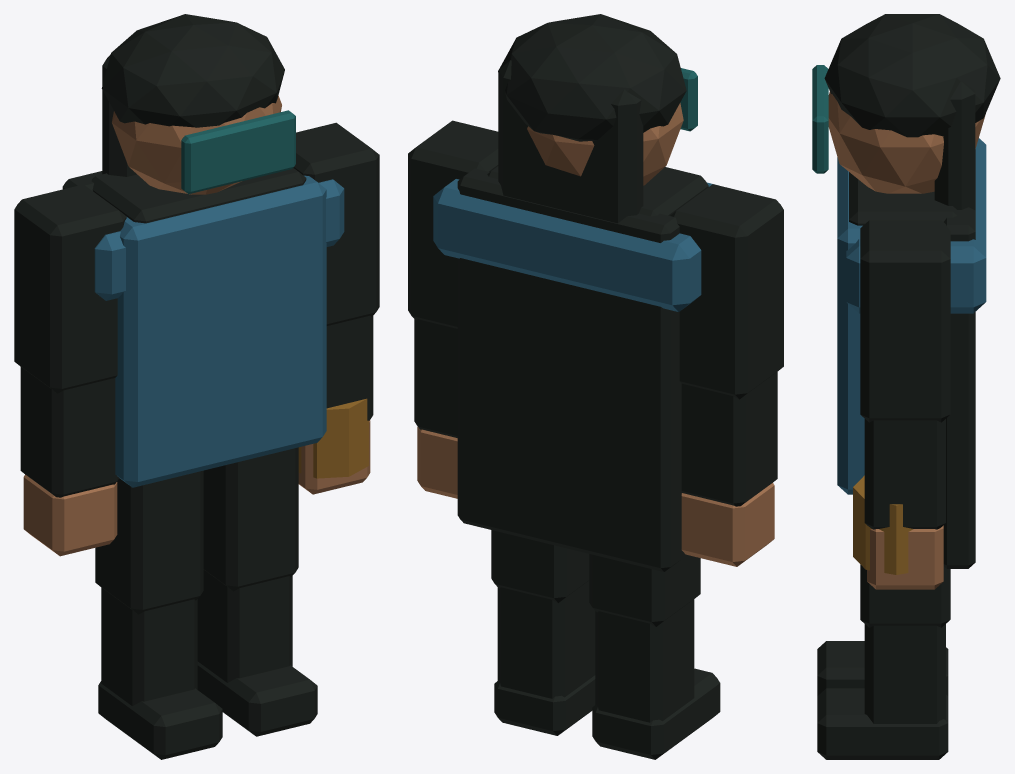
The model's file is NerisVeilfallWarden.glb.
3 views of the same model, side by side, from view 1: azimuth 30°, elevation 25°; view 2: azimuth 150°, elevation 25°; view 3: azimuth 270°, elevation 25° (orthographic). The views are drawn at different scales.
Parts seen in each view (by area): view 1: UpperTorso_Tunic, LeftUpperArm, Head_HairCap, LeftUpperLeg, RightUpperLeg, RightUpperArm, LeftLowerArm, LeftLowerLeg, RightLowerLeg, Head_VeilMask, LeftFoot, RightFoot (+8 smaller); view 2: UpperTorso_LongCape, LeftUpperArm, UpperTorso_WardenMantle, Head_HairCap, Head_HairBack, LeftLowerArm, LeftLowerLeg, RightUpperArm, RightLowerLeg, LeftUpperLeg, LeftHand, RightUpperLeg (+7 smaller); view 3: RightUpperArm, Head_HairCap, RightLowerArm, UpperTorso_LongCape, RightLowerLeg, Head, RightFoot, UpperTorso_Tunic, UpperTorso_WardenMantle, Head_HairBack, RightUpperLeg, RightHand (+4 smaller).
Part boxes in pixels (<box>): UpperTorso_Tunic: <box>115,175,326,487</box>; LeftUpperArm: <box>14,184,126,393</box>; Head_HairCap: <box>101,14,284,127</box>; LeftUpperLeg: <box>95,470,203,614</box>; RightUpperLeg: <box>203,447,298,591</box>; RightUpperArm: <box>293,122,379,325</box>; LeftLowerArm: <box>20,367,119,497</box>; LeftLowerLeg: <box>101,587,197,705</box>; RightLowerLeg: <box>197,570,292,682</box>; Head_VeilMask: <box>181,110,295,194</box>; LeftFoot: <box>98,681,222,759</box>; RightFoot: <box>197,661,317,736</box>; UpperTorso_LongCape: <box>457,168,681,571</box>; LeftUpperArm: <box>670,184,783,399</box>; UpperTorso_WardenMantle: <box>433,179,701,311</box>; Head_HairCap: <box>498,14,686,141</box>; Head_HairBack: <box>498,60,643,223</box>; LeftLowerArm: <box>681,371,777,506</box>; LeftLowerLeg: <box>595,599,694,722</box>; RightUpperArm: <box>408,120,498,328</box>; RightLowerLeg: <box>497,580,595,698</box>; LeftUpperLeg: <box>589,550,700,626</box>; LeftHand: <box>681,483,774,566</box>; RightUpperLeg: <box>491,530,589,602</box>; RightUpperArm: <box>860,220,950,422</box>; Head_HairCap: <box>824,14,1000,137</box>; RightLowerArm: <box>864,419,945,529</box>; UpperTorso_LongCape: <box>943,149,975,568</box>; RightLowerLeg: <box>864,624,945,723</box>; Head: <box>828,92,985,193</box>; RightFoot: <box>817,688,948,759</box>; UpperTorso_Tunic: <box>837,157,864,494</box>; UpperTorso_WardenMantle: <box>846,138,986,313</box>; Head_HairBack: <box>934,81,975,209</box>; RightUpperLeg: <box>860,564,950,627</box>; RightHand: <box>867,525,943,589</box>.
Bounding box in the file's own units: 4.3 × 8.55 × 2.08.
Materials: 1 (1 with a texture image).
